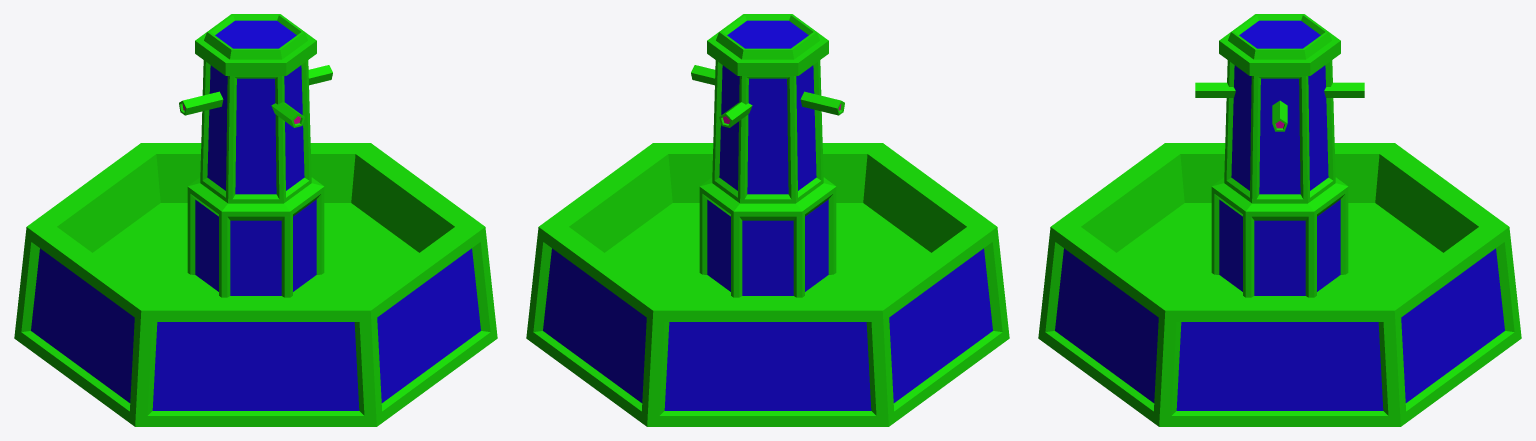
The model's file is fountain_high.fbx.
The picture shows the model from 3 angles, left to right: view 1: azimuth 30°, elevation 25°; view 2: azimuth 150°, elevation 25°; view 3: azimuth 270°, elevation 25°; orthographic projection.
Parts seen in each view (by area): view 1: Fountain_High; view 2: Fountain_High; view 3: Fountain_High.
Boxes of the visible parts, x1,y1,x2,y2 form: Fountain_High: (14,14,497,426); Fountain_High: (526,14,1009,426); Fountain_High: (1038,14,1521,426).
Size of the model in its own units: 353 by 285 by 408.
